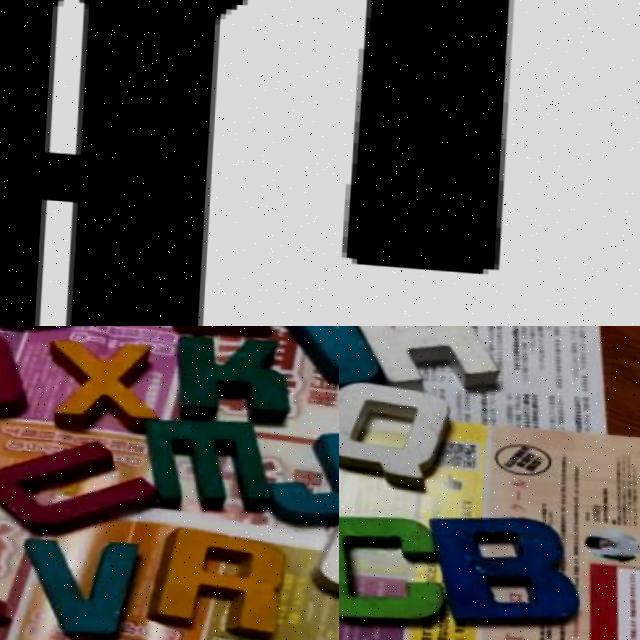B: (433, 505, 587, 623)
C: (339, 510, 445, 620)
H: (351, 326, 502, 390)
I: (344, 0, 520, 275)
J: (268, 419, 339, 525), (339, 326, 390, 399)
K: (164, 326, 300, 420)
M: (134, 408, 274, 510)
O: (0, 326, 32, 423)
P: (297, 326, 339, 377)
Q: (339, 374, 463, 484)
R: (154, 523, 294, 633)
U: (0, 433, 159, 535)
V: (6, 533, 141, 640)
X: (44, 333, 175, 433)
